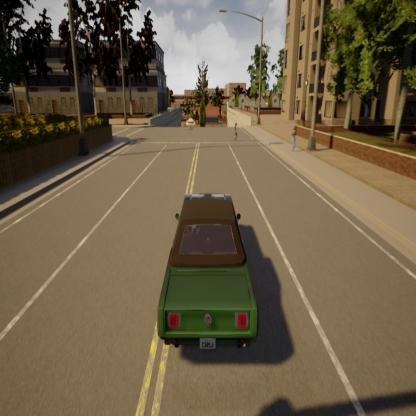Cars: (155, 189, 261, 384)
Pedestrian: (230, 110, 242, 152), (290, 118, 300, 163)
